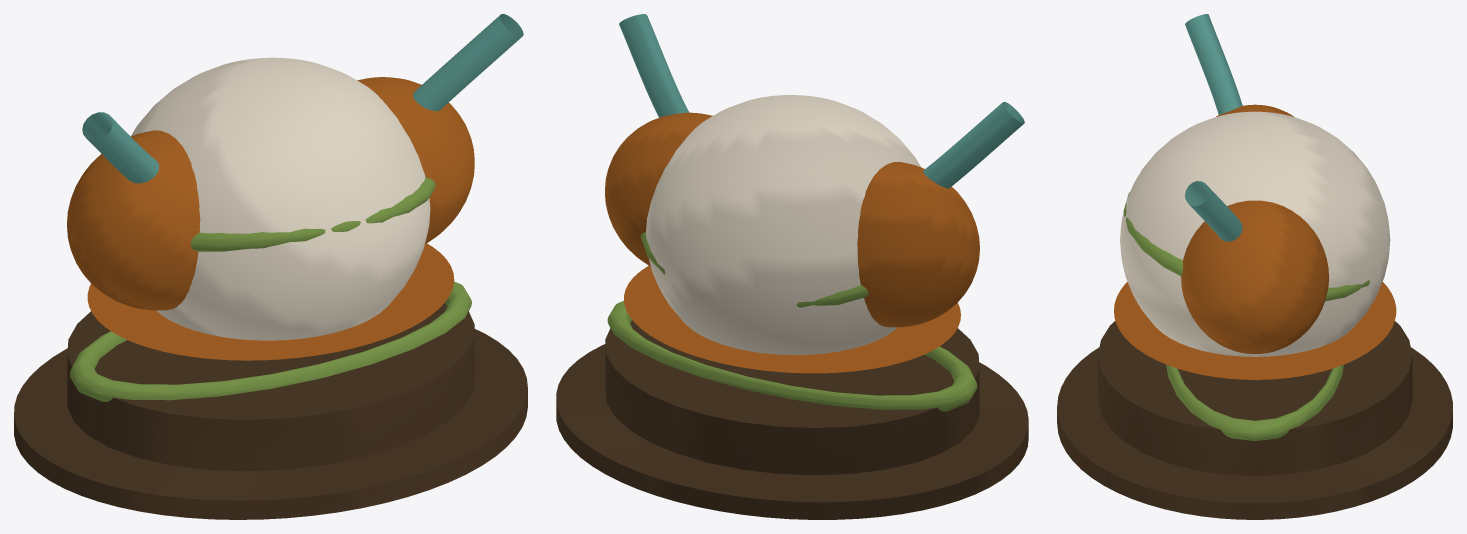
File: 0182_人体图鉴_心脏.glb
3 renders of one model, left to right at view 1: azimuth 30°, elevation 25°; view 2: azimuth 150°, elevation 25°; view 3: azimuth 270°, elevation 25°, orthographic. The views are drawn at different scales.
Parts seen in each view (by area): view 1: card_0182; view 2: card_0182; view 3: card_0182.
Boxes of the visible parts, box(x1,y1,x2,y2) form: card_0182: box(14, 14, 527, 519); card_0182: box(556, 14, 1028, 519); card_0182: box(1057, 14, 1452, 519).
Bounding box in the file's own units: 1.27 × 1 × 1.1.
